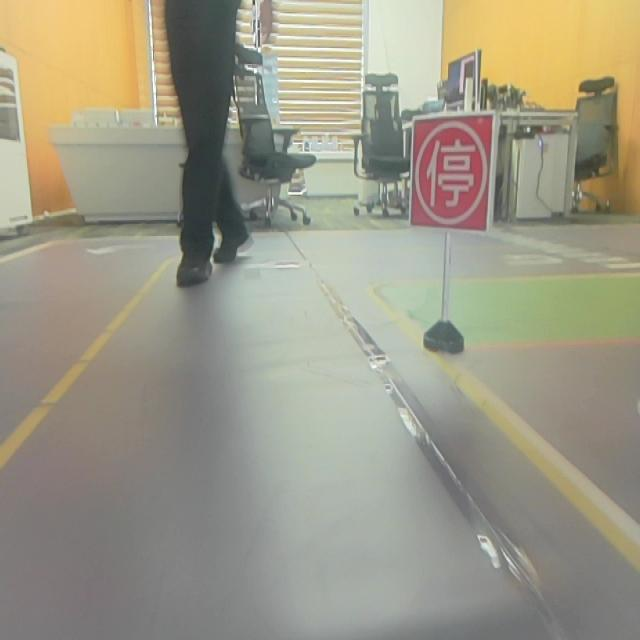left_lane: (0, 259, 171, 467)
right_lane: (374, 291, 640, 572)
